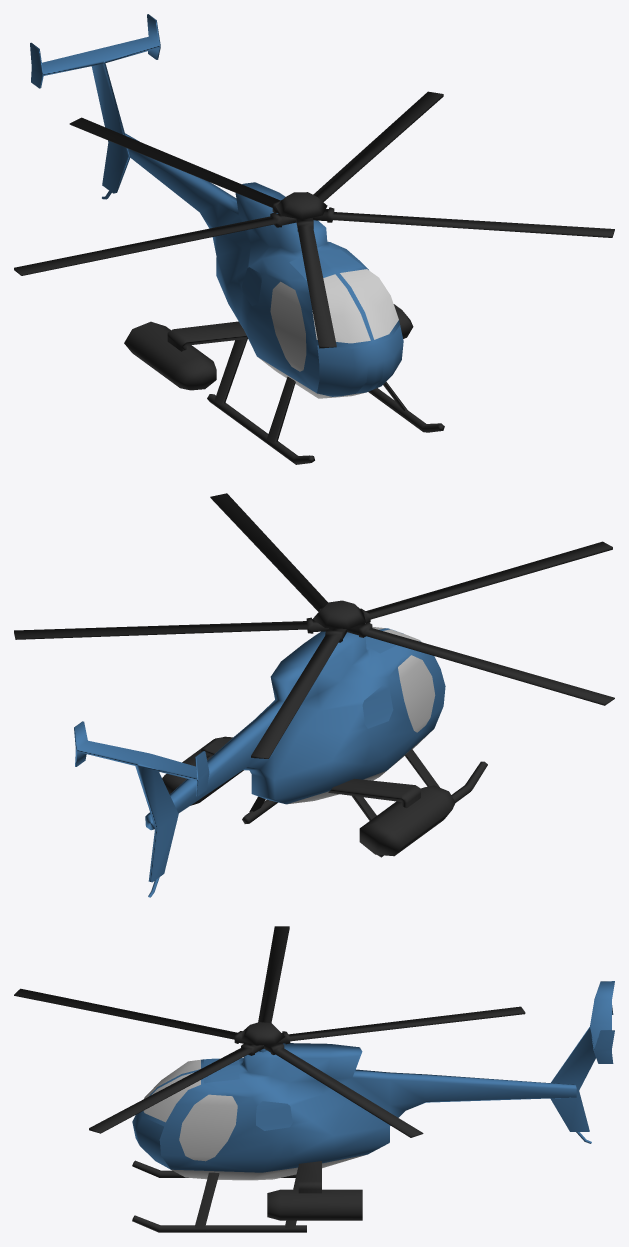
The model's file is Helicopter.fbx.
3 renders of one model, top to bottom at view 1: azimuth 30°, elevation 25°; view 2: azimuth 150°, elevation 25°; view 3: azimuth 270°, elevation 25°, orthographic. The views are drawn at different scales.
Visible parts, largest first — view 1: Helicopter, Top_rotor; view 2: Helicopter, Top_rotor; view 3: Helicopter, Top_rotor.
Boxes of the visible parts, <box> form: Helicopter: <box>30,14,444,464</box>; Top_rotor: <box>14,91,614,348</box>; Helicopter: <box>74,626,487,897</box>; Top_rotor: <box>14,493,614,758</box>; Helicopter: <box>132,981,614,1232</box>; Top_rotor: <box>14,926,525,1137</box>.
Bounding box in the file's own units: 1131 × 491 × 1366.
